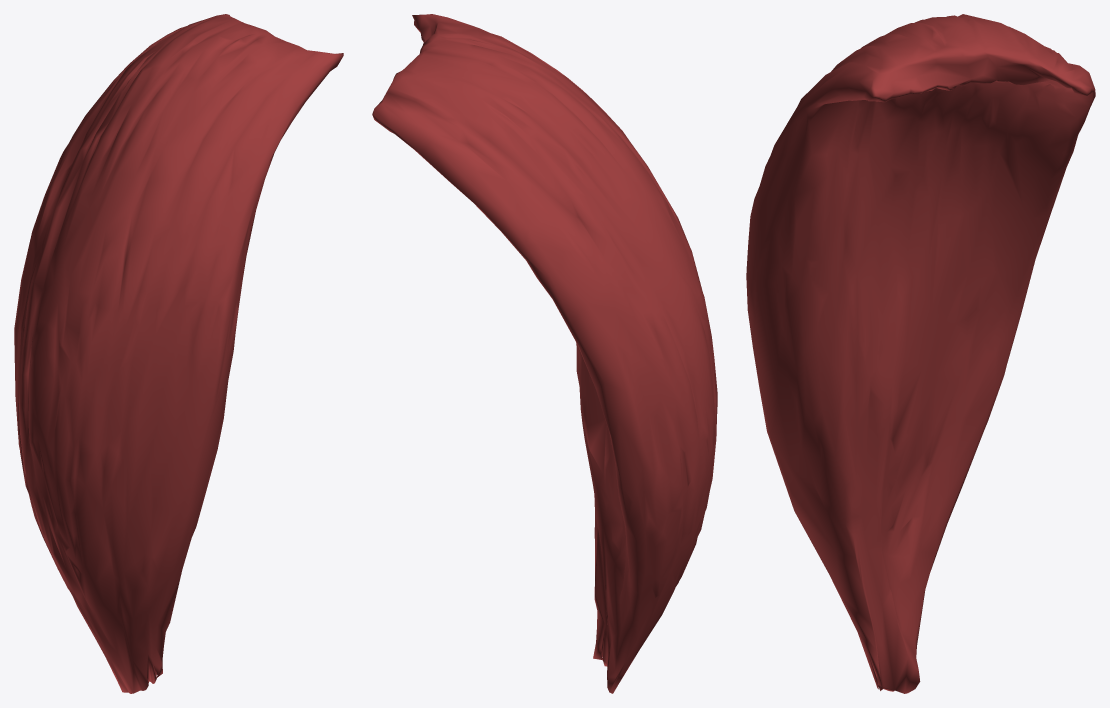
The model's file is acromial-part-of-deltoid-muscle-r.glb.
3 renders of one model, left to right at view 1: azimuth 30°, elevation 25°; view 2: azimuth 150°, elevation 25°; view 3: azimuth 270°, elevation 25°, orthographic. The views are drawn at different scales.
Parts seen in each view (by area): view 1: Acromial part of deltoid muscle.r; view 2: Acromial part of deltoid muscle.r; view 3: Acromial part of deltoid muscle.r.
Part boxes in pixels (x1,y1,x2,y2): Acromial part of deltoid muscle.r: (14,14,343,693); Acromial part of deltoid muscle.r: (372,14,717,693); Acromial part of deltoid muscle.r: (746,14,1095,693).
Bounding box in the file's own units: 0.0755 × 0.1476 × 0.0634.
